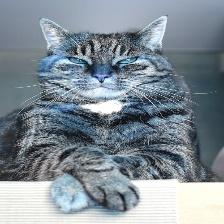kedo: (0, 16, 224, 210)
